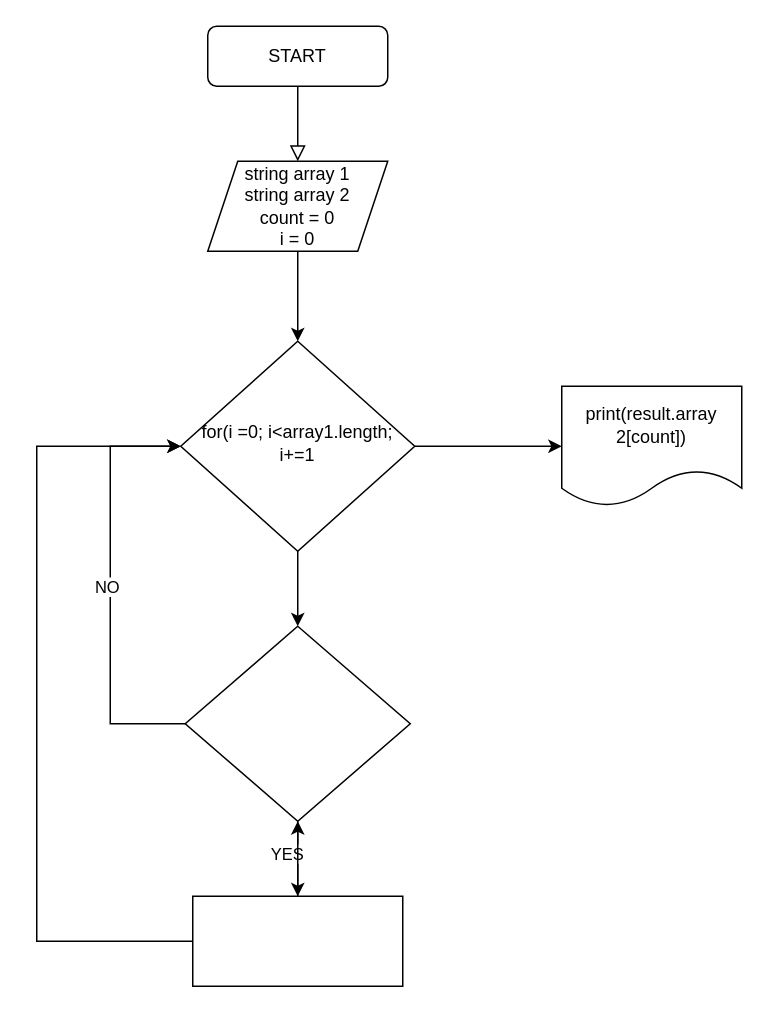
Some shapes in this 768 by 1013 pixel diagram are drawn without their labels. Each missing label, with the centre of its shape:
array2[count] = array1[i] result.array2[count] count +=1: the point at 297,940
if(array 1[i].leangth <= 3: the point at 297,723
